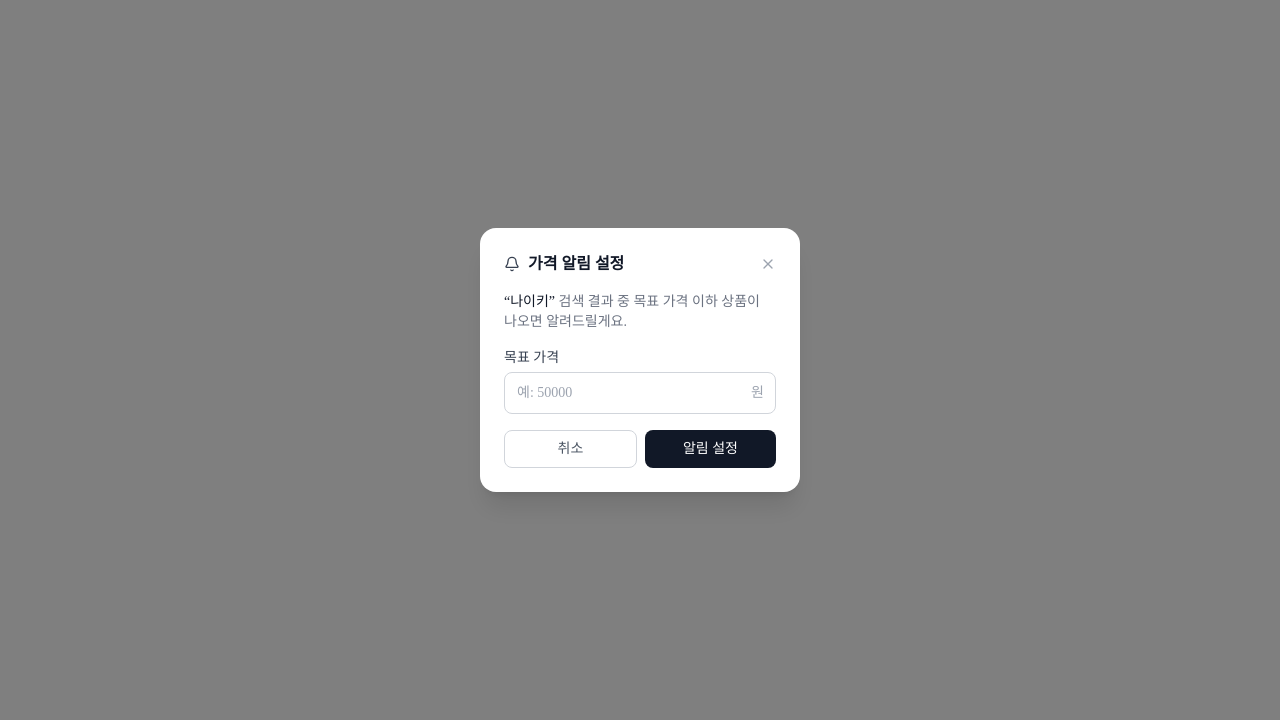
Test: AlertModal › API 성공 → 성공 메시지 표시
This screenshot has width=1280, height=720.
Type "30000" into the number field labelled "목표 가격".
click(640, 393); type("30000")  # box [504, 372, 776, 414]
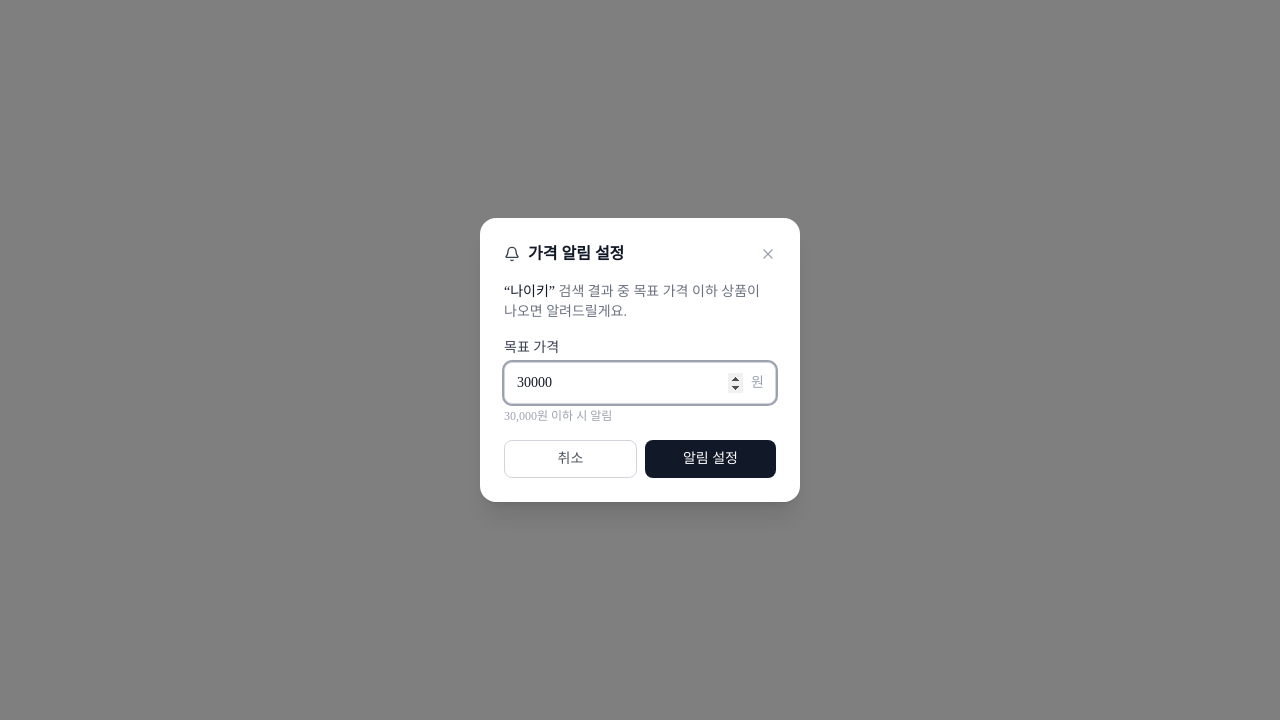
Click the button "알림 설정".
click(710, 459)  # box [645, 440, 776, 478]
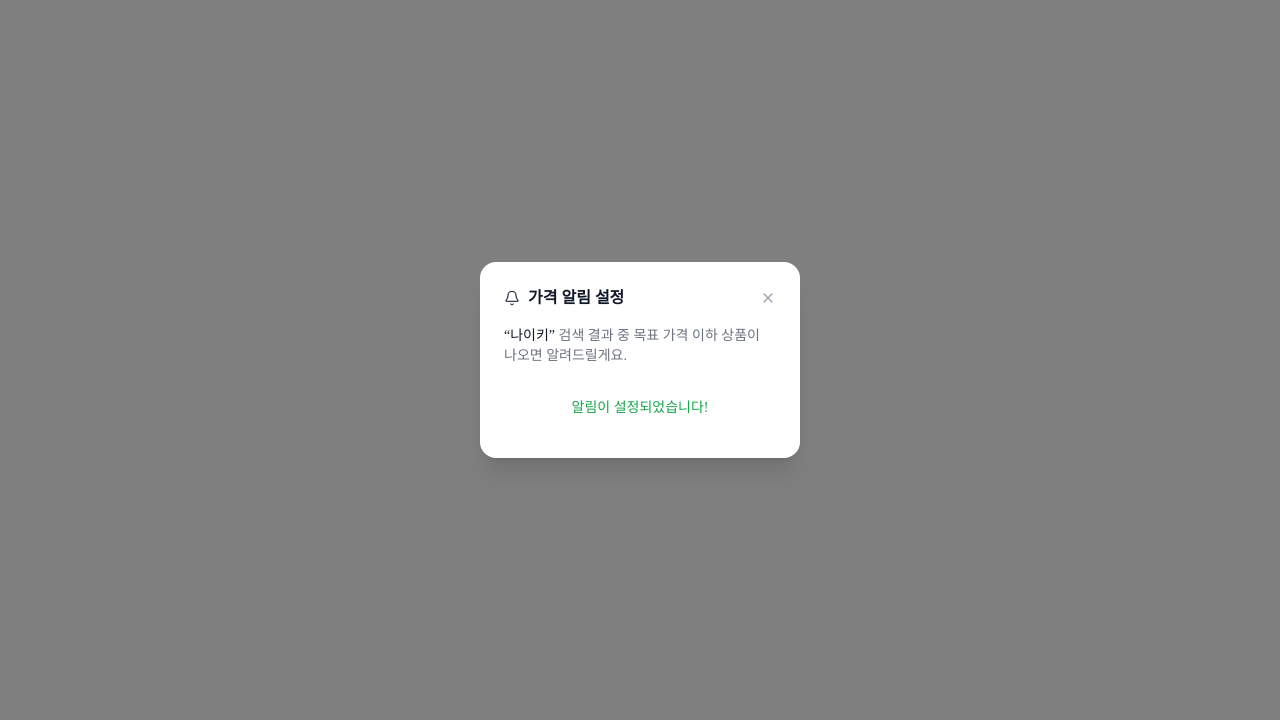
Result: the text "알림이 설정되었습니다!" is shown at [572, 400, 708, 415]
